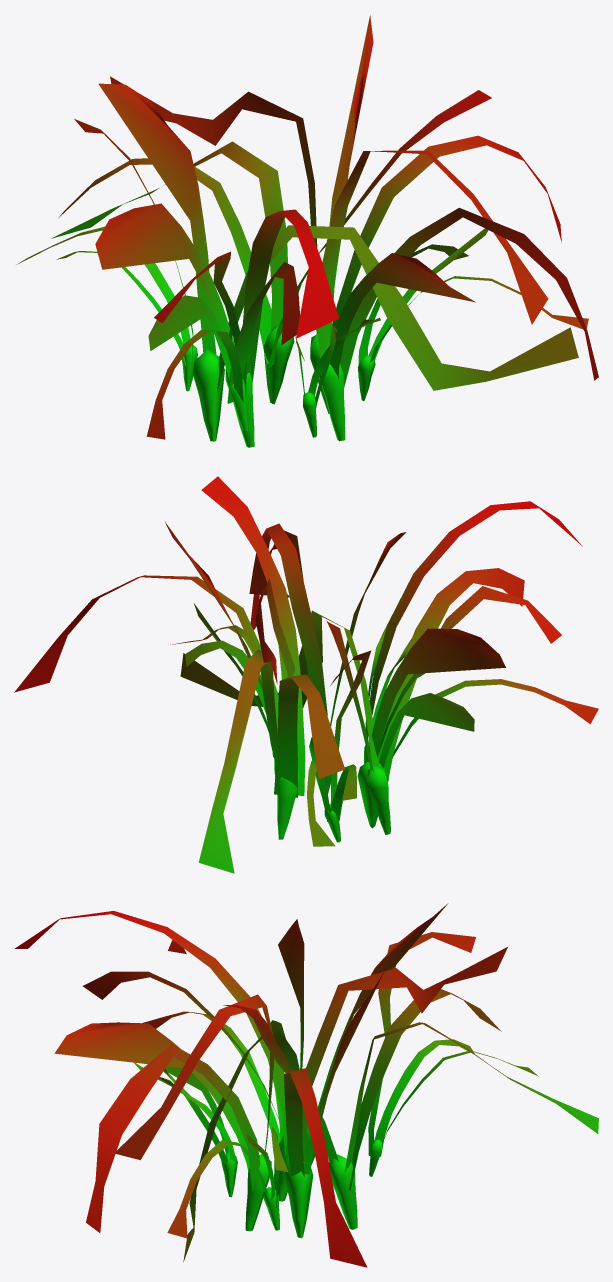
File: Var6_LOD1.fbx
3 renders of one model, top to bottom at view 1: azimuth 30°, elevation 25°; view 2: azimuth 150°, elevation 25°; view 3: azimuth 270°, elevation 25°, orthographic. The views are drawn at different scales.
Visible parts, largest first — view 1: _b334_Var6_LOD1; view 2: _b334_Var6_LOD1; view 3: _b334_Var6_LOD1.
Part boxes in pixels (x1,y1,x2,y2): _b334_Var6_LOD1: (16, 15, 598, 447); _b334_Var6_LOD1: (14, 476, 598, 873); _b334_Var6_LOD1: (14, 903, 598, 1267).
Bounding box in the file's own units: 31.46 × 19.56 × 33.57.
